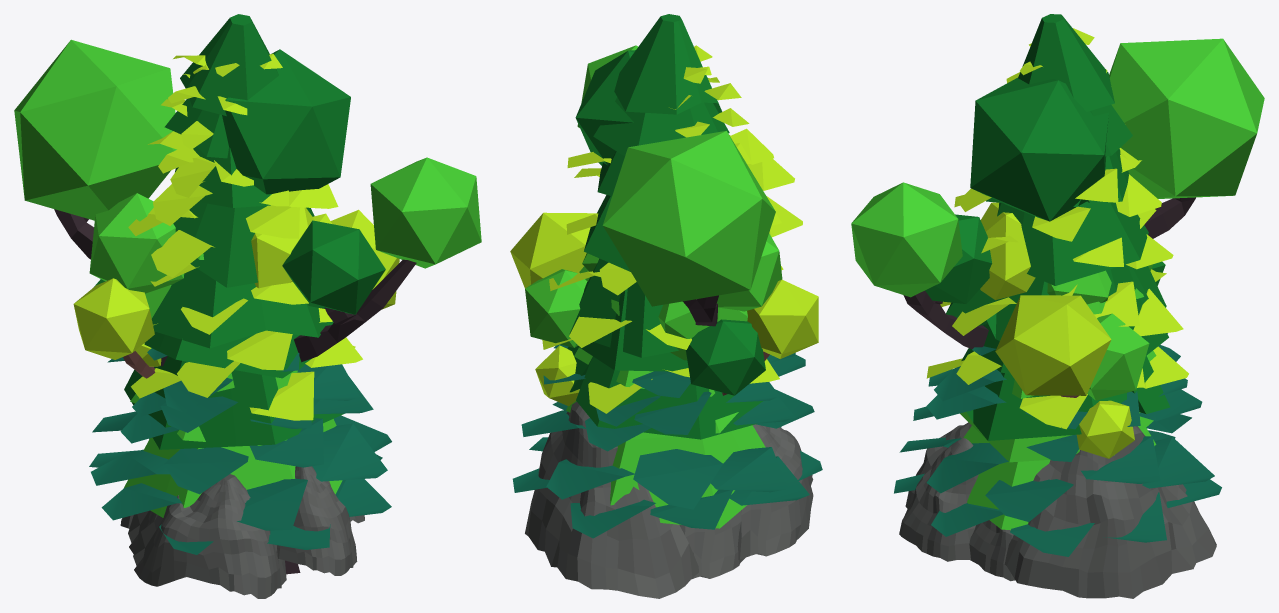
File: TreesAndStones.glb
The picture shows the model from 3 angles, left to right: view 1: azimuth 30°, elevation 25°; view 2: azimuth 150°, elevation 25°; view 3: azimuth 270°, elevation 25°; orthographic projection. The views are drawn at different scales.
Parts seen in each view (by area): view 1: BubbleTree2, Christmas Tree Tall, Pine Tree Small, Pine Tree Tall, StoneTriple.001, Bubble Tree 1, Christmas Tree; view 2: BubbleTree2, Pine Tree Small, Christmas Tree Tall, StoneTriple.001, Bubble Tree 1, Pine Tree Tall, Christmas Tree, StoneDouble.001; view 3: BubbleTree2, StoneTriple.001, Christmas Tree Tall, Pine Tree Small, Bubble Tree 1, Pine Tree Tall, Christmas Tree, StoneDouble.001.
Part boxes in pixels (x1,y1,x2,y2): BubbleTree2: (14, 39, 481, 574); Christmas Tree Tall: (124, 14, 344, 449); Pine Tree Small: (89, 348, 391, 554); Pine Tree Tall: (128, 53, 362, 420); StoneTriple.001: (120, 466, 364, 598); Bubble Tree 1: (73, 193, 399, 378); Christmas Tree: (124, 253, 342, 517); BubbleTree2: (575, 45, 775, 395); Pine Tree Small: (512, 344, 822, 538); Christmas Tree Tall: (567, 14, 762, 439); StoneTriple.001: (525, 401, 813, 598); Bubble Tree 1: (510, 212, 818, 406); Pine Tree Tall: (542, 45, 802, 413); Christmas Tree: (566, 266, 765, 528); StoneDouble.001: (680, 511, 745, 579); BubbleTree2: (851, 38, 1264, 349); StoneTriple.001: (899, 422, 1216, 598); Christmas Tree Tall: (946, 14, 1170, 440); Pine Tree Small: (894, 333, 1221, 556); Bubble Tree 1: (980, 202, 1153, 458); Pine Tree Tall: (926, 28, 1188, 429); Christmas Tree: (960, 288, 1156, 530); StoneDouble.001: (969, 520, 1014, 581).
Bounding box in the file's own units: 4.8 × 7.78 × 5.42.
